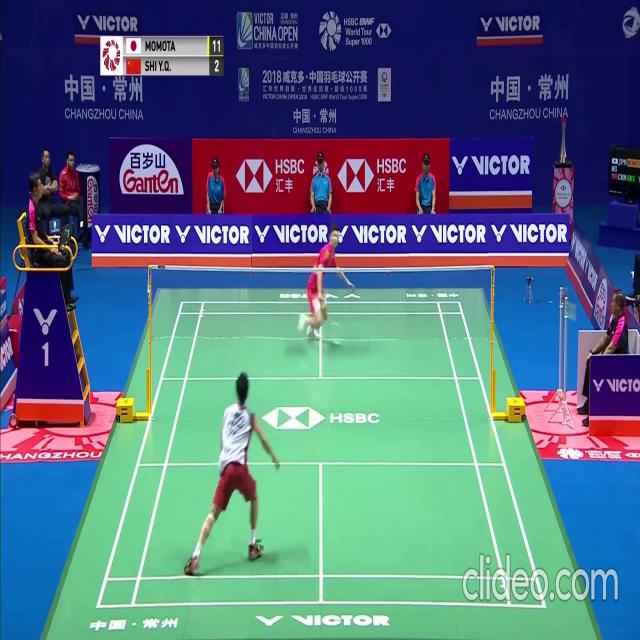Shuttlecock: (363, 229, 368, 236)
